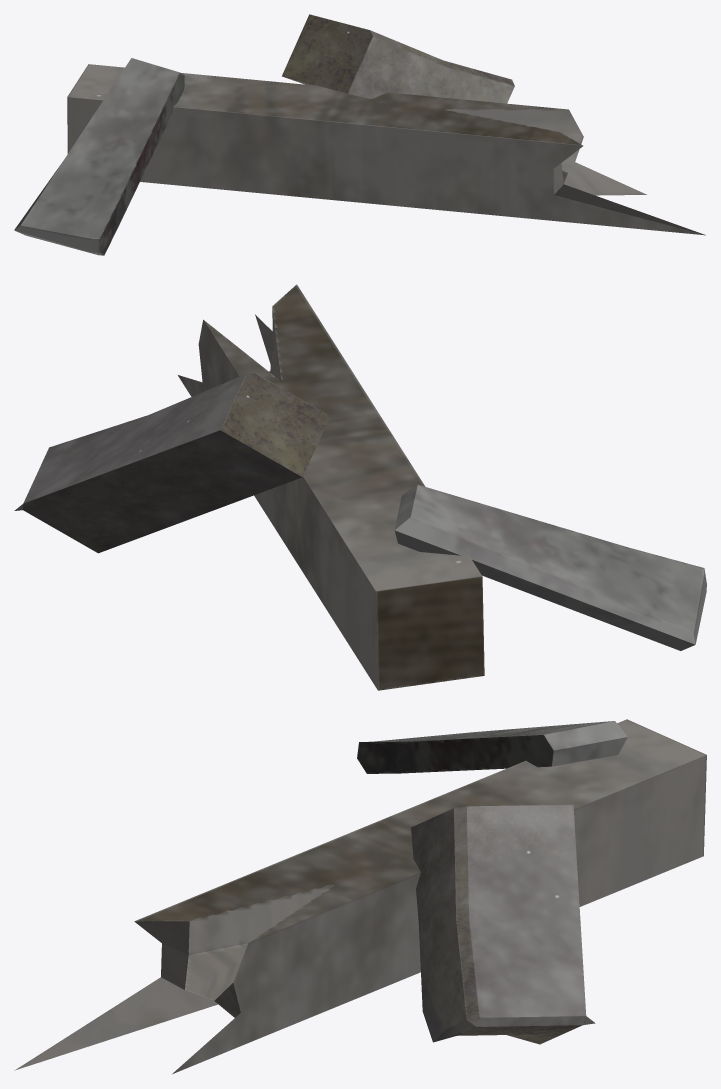
The model's file is House_rubble3.fbx.
The picture shows the model from 3 angles, top to bottom: view 1: azimuth 30°, elevation 25°; view 2: azimuth 150°, elevation 25°; view 3: azimuth 270°, elevation 25°; orthographic projection. The views are drawn at different scales.
Parts seen in each view (by area): view 1: broken_beam.007; view 2: broken_beam.007; view 3: broken_beam.007.
Part boxes in pixels (bbox=[...]): broken_beam.007: bbox=[14, 14, 705, 255]; broken_beam.007: bbox=[14, 284, 706, 690]; broken_beam.007: bbox=[14, 719, 706, 1074].
Size of the model in its own units: 105 by 26.96 by 92.62.
